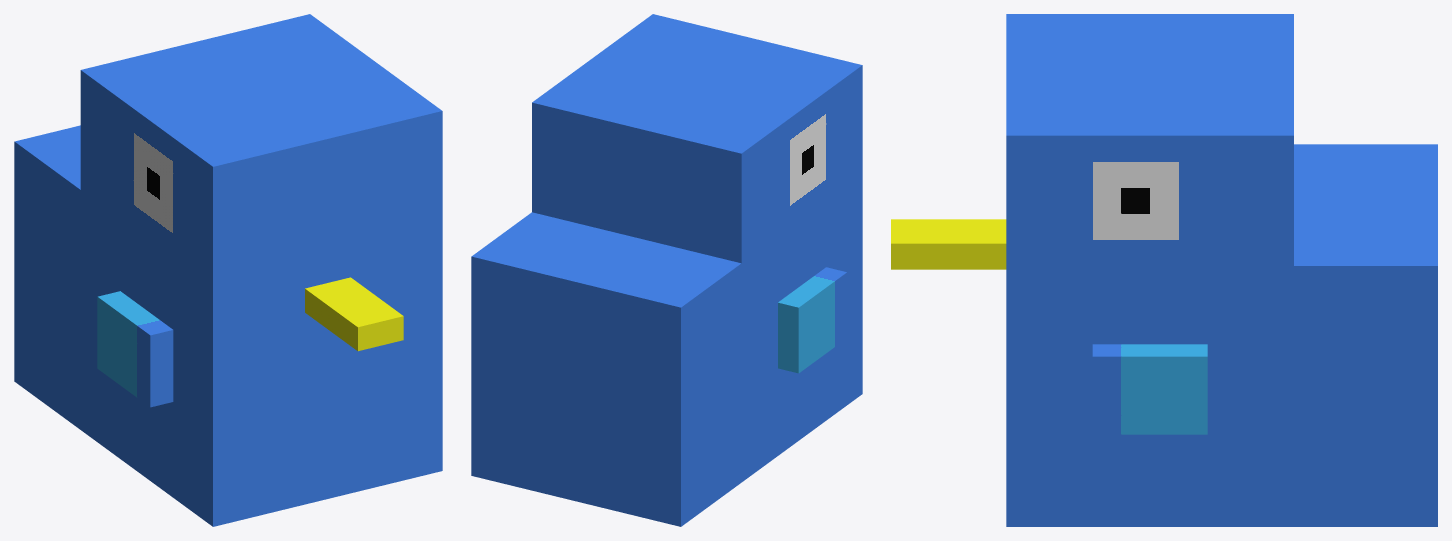
File: Duckie.fbx
The picture shows the model from 3 angles, left to right: view 1: azimuth 30°, elevation 25°; view 2: azimuth 150°, elevation 25°; view 3: azimuth 270°, elevation 25°; orthographic projection. The views are drawn at different scales.
Parts seen in each view (by area): view 1: Duckie; view 2: Duckie; view 3: Duckie.
Part boxes in pixels (bbox=[...]): Duckie: bbox=[14, 14, 442, 526]; Duckie: bbox=[471, 14, 862, 526]; Duckie: bbox=[891, 14, 1437, 526].
Bounding box in the file's own units: 12 × 15 × 19.
Materials: 1 (1 with a texture image).
